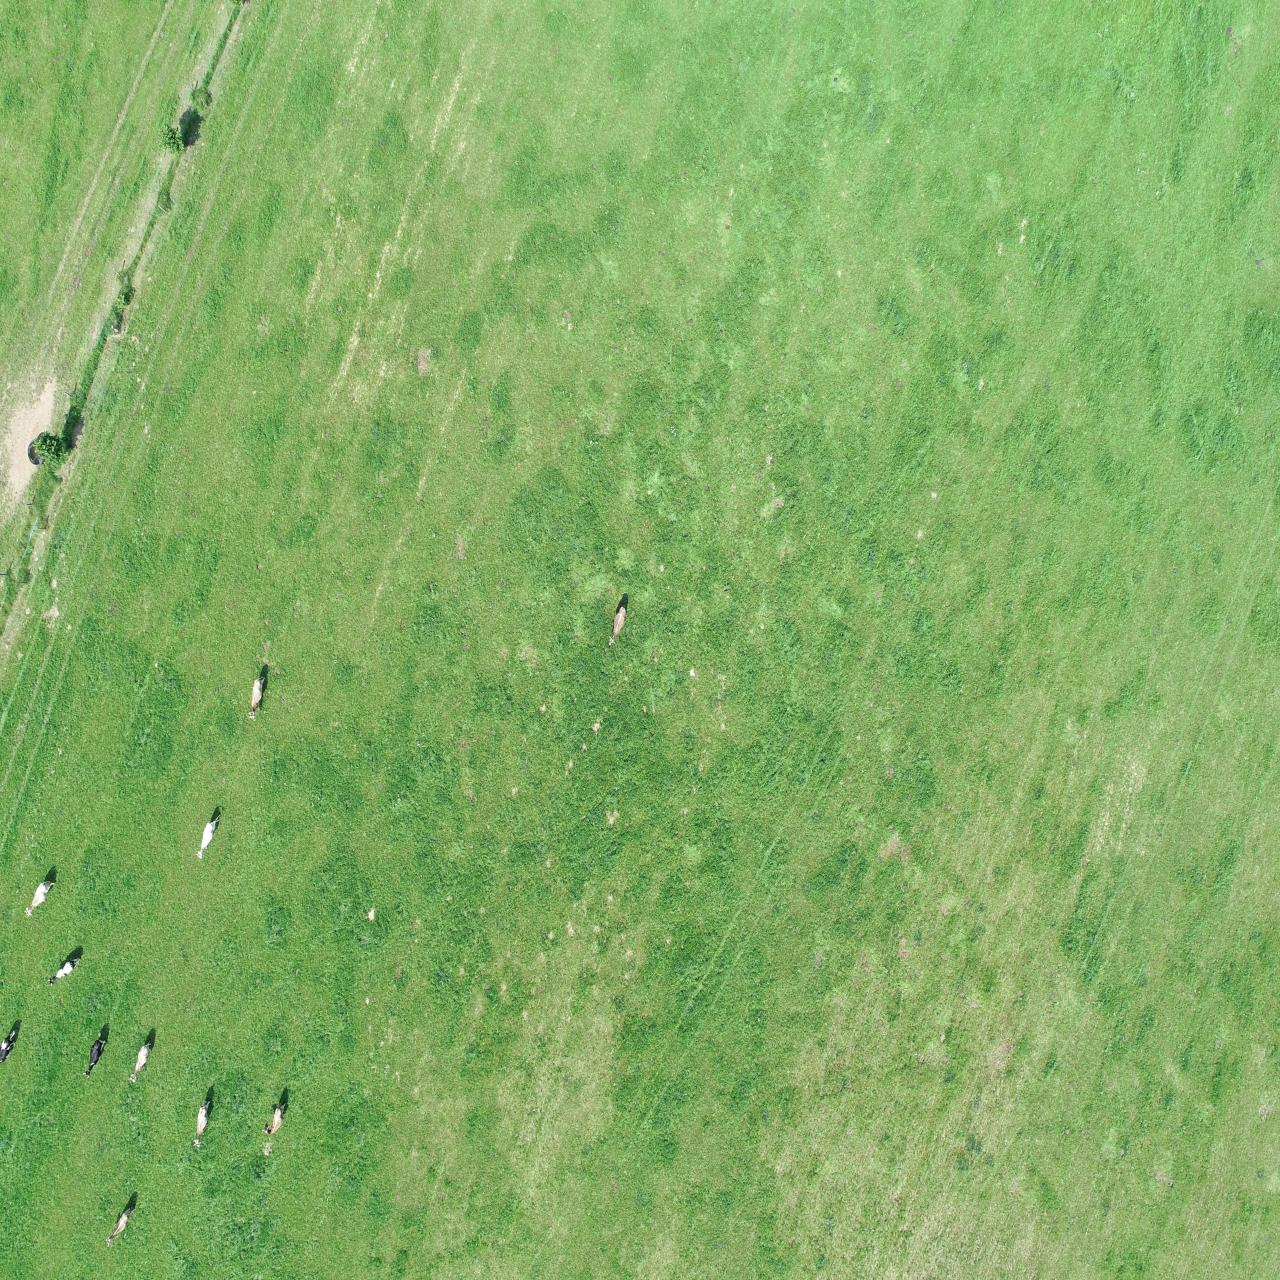cow: (45, 953, 87, 988), (104, 1205, 139, 1247), (22, 879, 57, 920), (80, 1029, 108, 1080), (195, 811, 222, 862), (128, 1040, 155, 1083), (191, 1098, 212, 1153), (247, 675, 268, 724), (606, 602, 627, 649), (260, 1101, 286, 1138), (0, 1027, 20, 1062)
